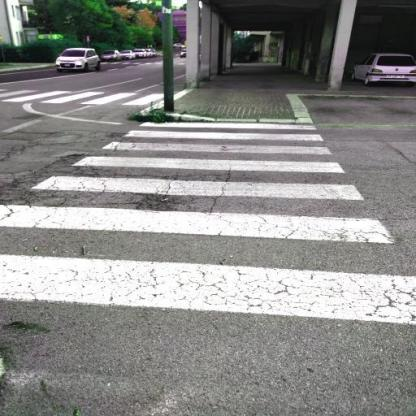crosswalk: (14, 154, 374, 206)
